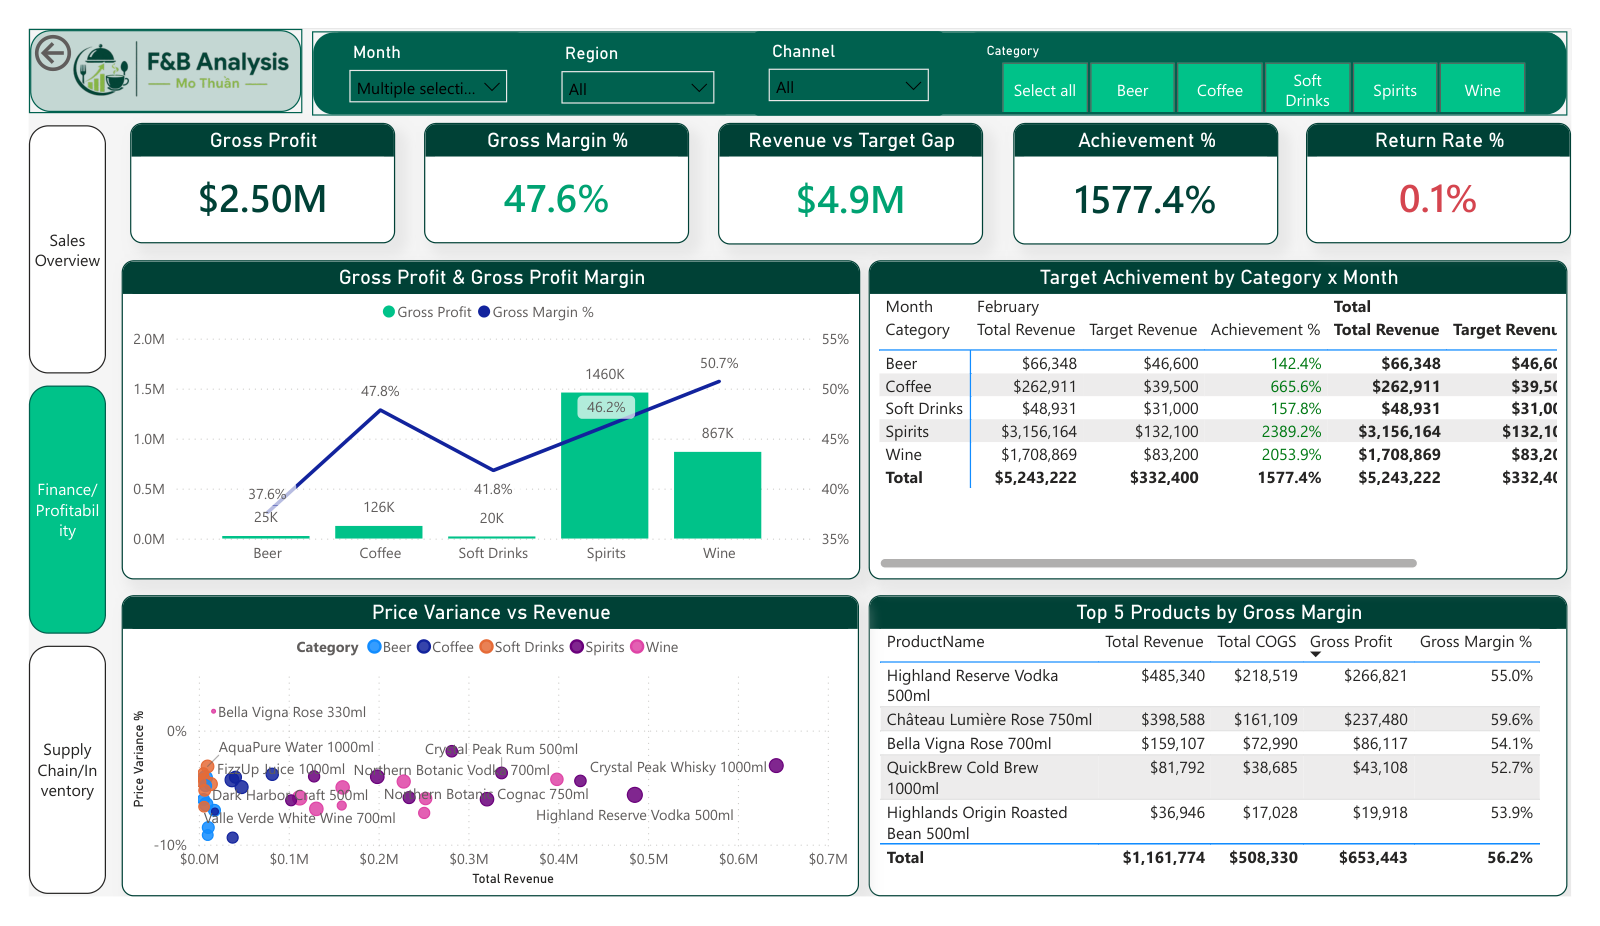

The page's visual inventory and layout, read from the dashboard file:
{"tool":"powerbi","page":{"name":"Finance/Profitability","canvas":[1280,720],"ordinal":1},"visuals":[{"type":"shape","box":[235,1.7,1041.7,70],"z":0},{"type":"shape","box":[0,0,227.1,70],"z":1000},{"type":"slicer","fields":{"Values":["DIM_Date.Month Name"]},"box":[253.3,3.3,156.7,66.7],"z":2000},{"type":"slicer","fields":{"Values":["FACT_Sales.Region"]},"box":[428.6,3.6,153.8,66.9],"z":3000},{"type":"slicer","fields":{"Values":["FACT_Sales.Channel"]},"box":[601.1,2.1,158.6,70],"z":4000},{"type":"slicer","fields":{"Values":["DIM_Products.Category"]},"box":[778.3,3.3,491.7,66.7],"z":5000},{"type":"cardVisual","title":"Gross Profit","fields":{"Data":["_Measures.Gross Profit"]},"box":[84,78.4,220,100],"z":6000},{"type":"cardVisual","title":"Achievement %","fields":{"Data":["_Measures.Achievement %"]},"box":[816.6,78.4,220,100.2],"z":7000},{"type":"cardVisual","title":"Revenue vs Target Gap","fields":{"Data":["_Measures.Revenue vs Target Gap"]},"box":[572.4,78.4,220,100.2],"z":8000},{"type":"cardVisual","title":"Gross Margin %","fields":{"Data":["_Measures.Gross Margin %"]},"box":[328.2,78.4,220,100],"z":9000},{"type":"lineClusteredColumnComboChart","title":"Gross Profit & Gross Profit Margin","fields":{"Category":["DIM_Products.Category","DIM_Products.SubCategory"],"Y":["_Measures.Gross Profit"],"Y2":["_Measures.Gross Margin %"]},"box":[76.6,191.5,612.9,265.2],"z":10000},{"type":"tableEx","title":"Top 5 Products by Gross Margin","fields":{"Values":["DIM_Products.ProductName","_Measures.Total Revenue","_Measures.Total COGS","_Measures.Gross Profit","_Measures.Gross Margin %"]},"box":[697.1,470,580,250],"z":11000},{"type":"image","box":[0,0,251.5,66.9],"z":12000},{"type":"pageNavigator","box":[0,80,64,640],"z":13000},{"type":"pivotTable","title":"Target Achivement by Category x Month","fields":{"Columns":["DIM_Date.Month Name"],"Rows":["DIM_Products.Category"],"Values":["_Measures.Total Revenue","_Measures.Target Revenue","_Measures.Achievement %"]},"box":[696.9,191.5,580.5,265.2],"z":14000},{"type":"scatterChart","title":"Price Variance vs Revenue","fields":{"Category":["DIM_Products.ProductName"],"Series":["DIM_Products.Category"],"Size":["_Measures.Sales Quantity"],"X":["_Measures.Total Revenue"],"Y":["_Measures.Price Variance %"]},"box":[76.7,470.3,612.4,249.5],"z":15000},{"type":"cardVisual","title":"Return Rate %","fields":{"Data":["_Measures.Return Rate %"]},"box":[1060.5,78.1,219.5,100.2],"z":16000}]}

Visuals, with their boxes in screenshot pixels (x1, y1, x2, y2), scaled from the page's 1280x720 canvas onto the 1600x926 screenshot:
shape: 294,2,1596,92
shape: 0,0,284,90
slicer - DIM_Date.Month Name: 317,4,512,90
slicer - FACT_Sales.Region: 536,5,728,91
slicer - FACT_Sales.Channel: 751,3,950,93
slicer - DIM_Products.Category: 973,4,1588,90
"Gross Profit" cardVisual: 105,101,380,229
"Achievement %" cardVisual: 1021,101,1296,230
"Revenue vs Target Gap" cardVisual: 716,101,990,230
"Gross Margin %" cardVisual: 410,101,685,229
"Gross Profit & Gross Profit Margin" lineClusteredColumnComboChart: 96,246,862,587
"Top 5 Products by Gross Margin" tableEx: 871,604,1596,925
image: 0,0,314,86
pageNavigator: 0,103,80,925
"Target Achivement by Category x Month" pivotTable: 871,246,1597,587
"Price Variance vs Revenue" scatterChart: 96,605,861,925
"Return Rate %" cardVisual: 1326,100,1599,229
